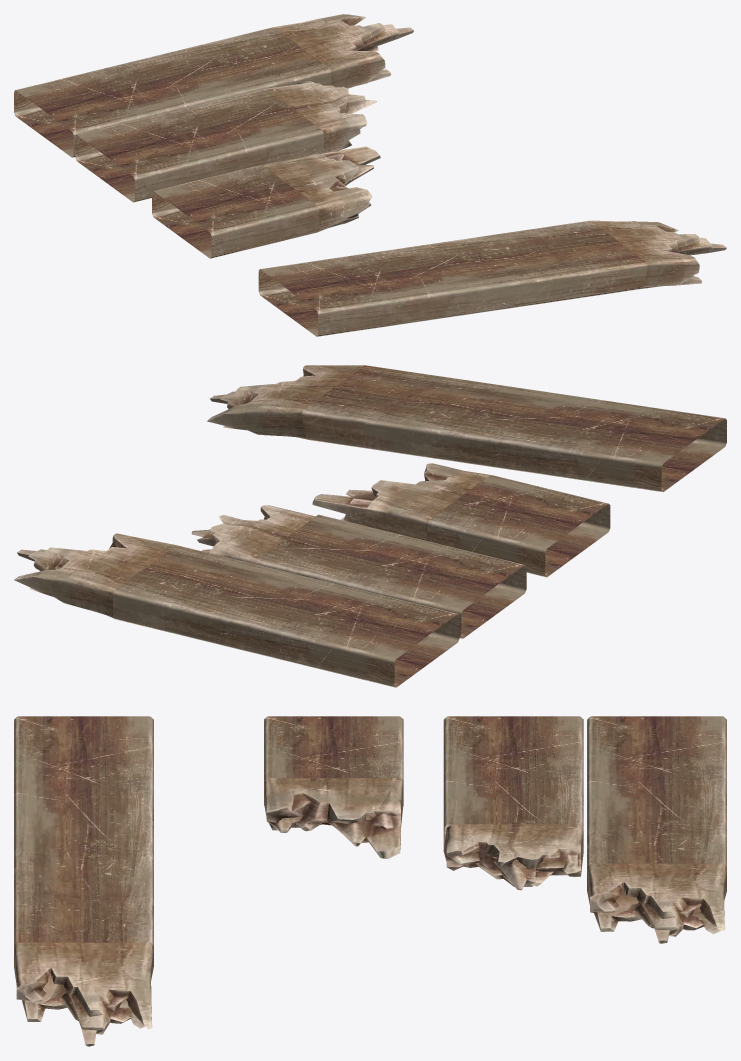
The picture shows the model from 3 angles, top to bottom: view 1: azimuth 30°, elevation 25°; view 2: azimuth 150°, elevation 25°; view 3: azimuth 270°, elevation 25°; orthographic projection. The views are drawn at different scales.
Visible parts, largest first — view 1: SM_BrokenWood_08_LOD0; view 2: SM_BrokenWood_08_LOD0; view 3: SM_BrokenWood_08_LOD0.
Part boxes in pixels (x1=…): SM_BrokenWood_08_LOD0: x1=14, y1=14, x2=726, y2=336; SM_BrokenWood_08_LOD0: x1=14, y1=365, x2=726, y2=687; SM_BrokenWood_08_LOD0: x1=14, y1=716, x2=726, y2=1046.
Bounding box in the file's own units: 2.35 × 0.363 × 2.82.
Materials: 1 (1 with a texture image).
